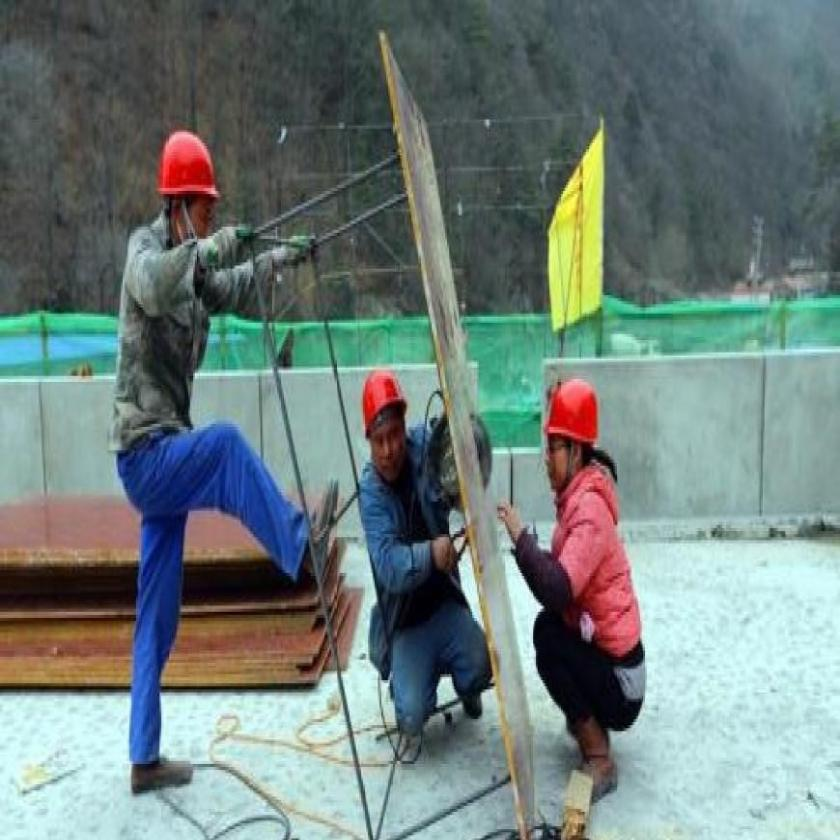Con_casco: (156, 124, 218, 263), (538, 377, 598, 494), (360, 366, 412, 489)
